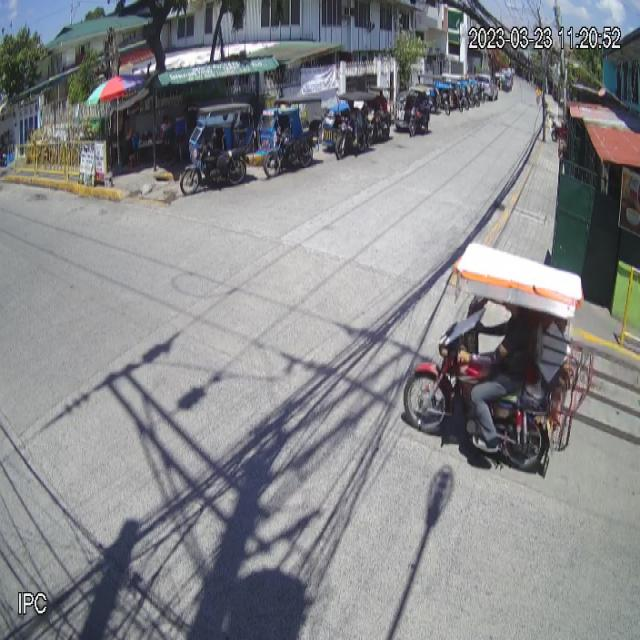Tricycle: (402, 240, 595, 478), (180, 100, 257, 196)
